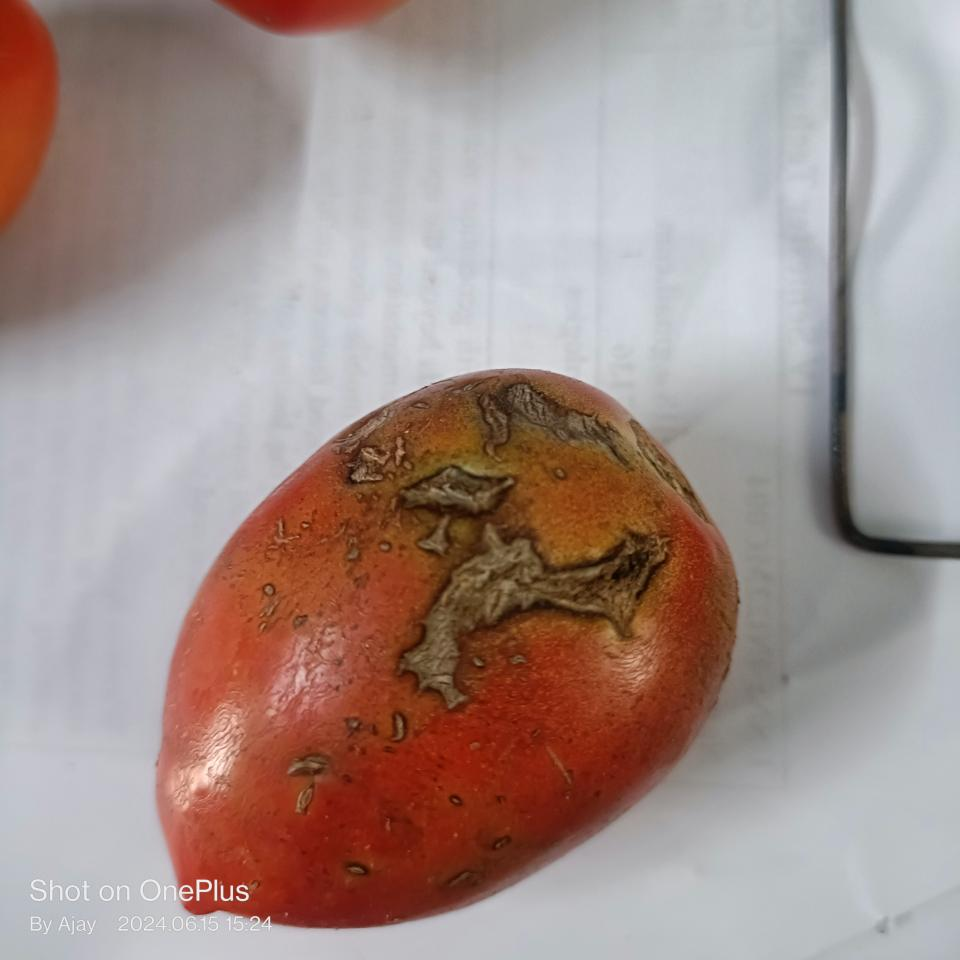Cracking: (377, 460, 690, 705)
